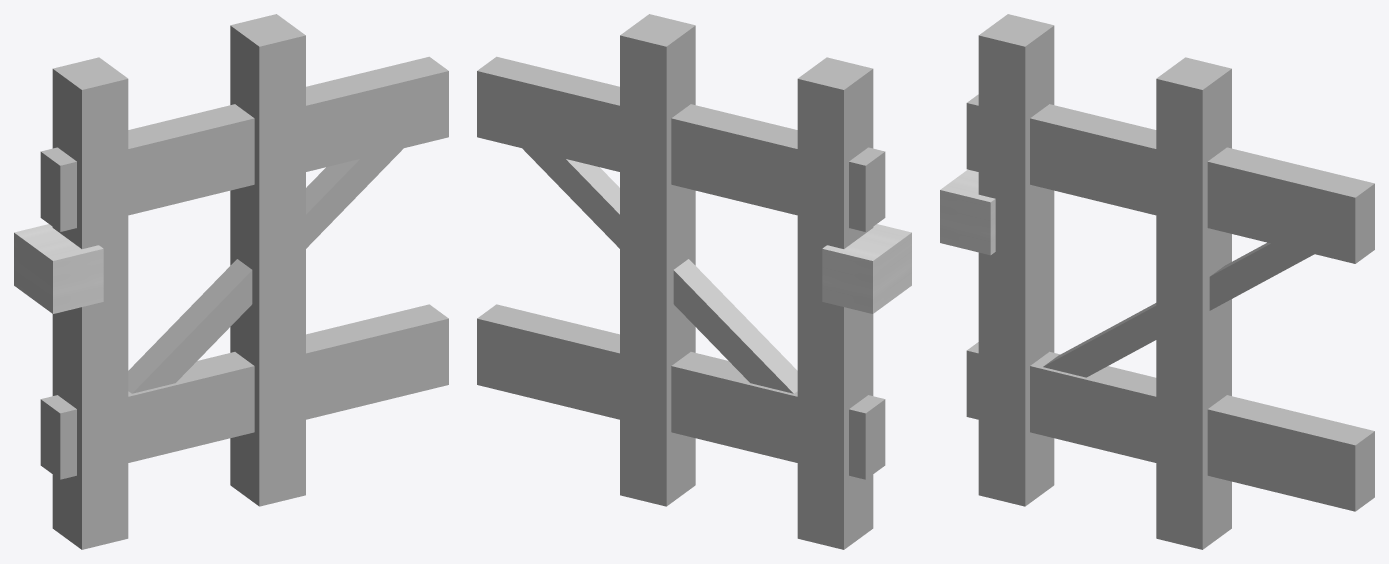
File: gate_leaf.obj
The picture shows the model from 3 angles, left to right: view 1: azimuth 30°, elevation 25°; view 2: azimuth 150°, elevation 25°; view 3: azimuth 330°, elevation 25°; orthographic projection.
Visible parts, largest first — view 1: gate_leaf; view 2: gate_leaf; view 3: gate_leaf.
Boxes of the visible parts, x1,y1,x2,y2 form: gate_leaf: [14, 14, 448, 549]; gate_leaf: [477, 14, 911, 549]; gate_leaf: [940, 14, 1374, 549].
Bounding box in the file's own units: 0.48 × 0.52 × 0.08.
